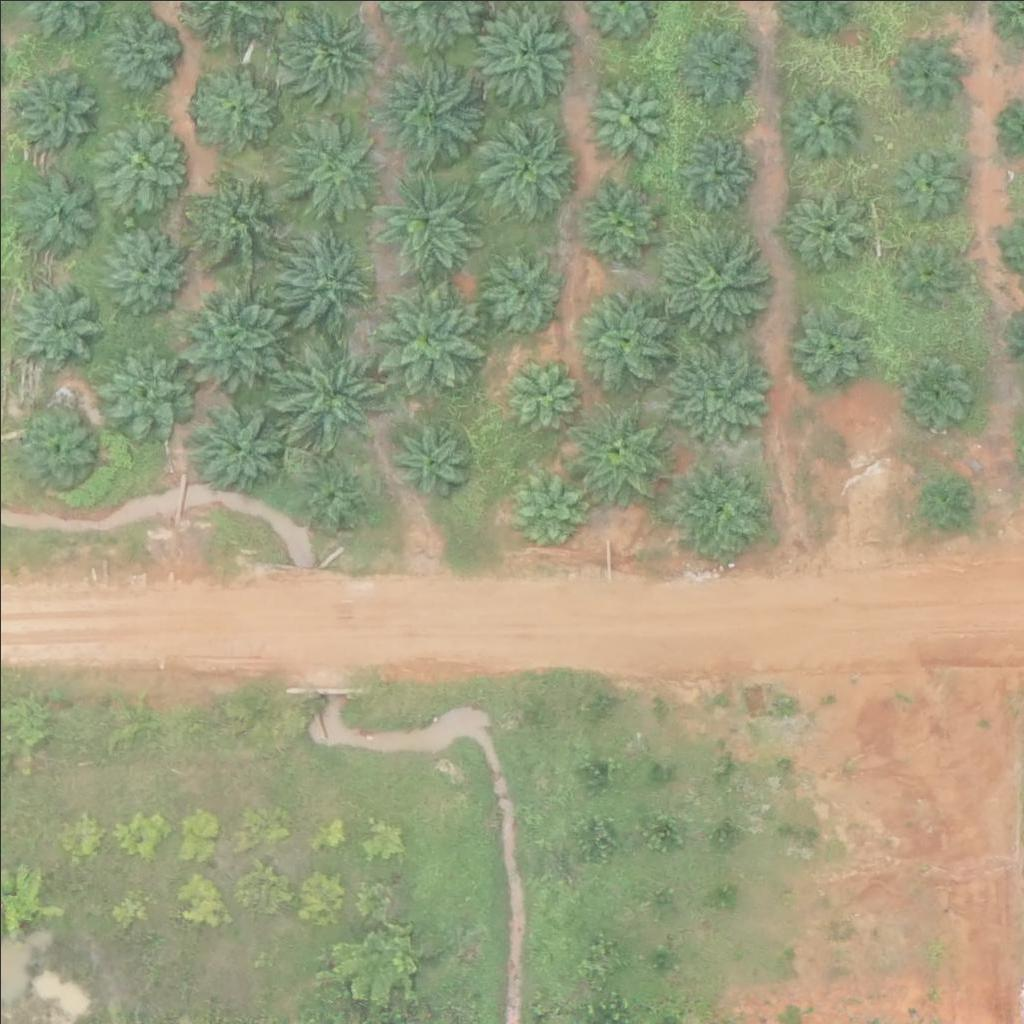Kelapa_Sawit: (258, 336, 383, 461), (655, 330, 768, 444), (649, 223, 762, 337), (368, 284, 481, 397), (363, 165, 476, 278), (369, 56, 482, 169), (667, 456, 767, 557), (569, 405, 669, 506), (268, 230, 368, 331), (278, 115, 378, 216), (180, 284, 280, 385), (188, 168, 288, 269), (569, 286, 669, 386), (472, 119, 572, 219), (469, 5, 569, 105), (94, 118, 182, 207), (191, 399, 279, 487), (190, 64, 278, 152), (94, 7, 182, 95), (385, 412, 472, 501), (497, 460, 584, 548), (101, 345, 188, 433), (99, 220, 186, 308), (11, 278, 98, 366), (13, 165, 100, 253), (13, 63, 100, 151), (886, 238, 961, 314), (902, 348, 977, 424), (788, 187, 863, 263), (18, 411, 93, 487), (793, 307, 868, 383), (673, 134, 748, 210), (675, 20, 750, 96), (581, 181, 656, 257), (586, 77, 661, 153), (479, 248, 554, 324), (504, 356, 579, 431), (887, 32, 962, 107), (780, 88, 855, 163), (886, 148, 961, 223), (921, 469, 984, 532), (297, 461, 359, 524)
